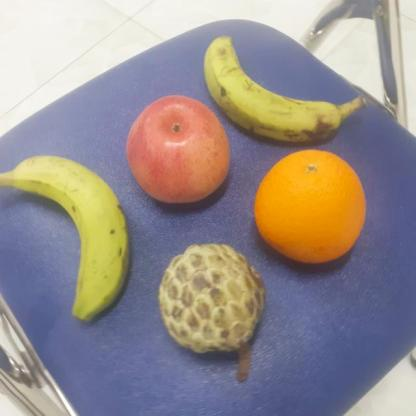annona: (154, 238, 268, 355)
apple: (124, 93, 232, 207)
banana: (10, 154, 134, 323), (200, 32, 345, 144)
orange: (250, 144, 372, 265)
